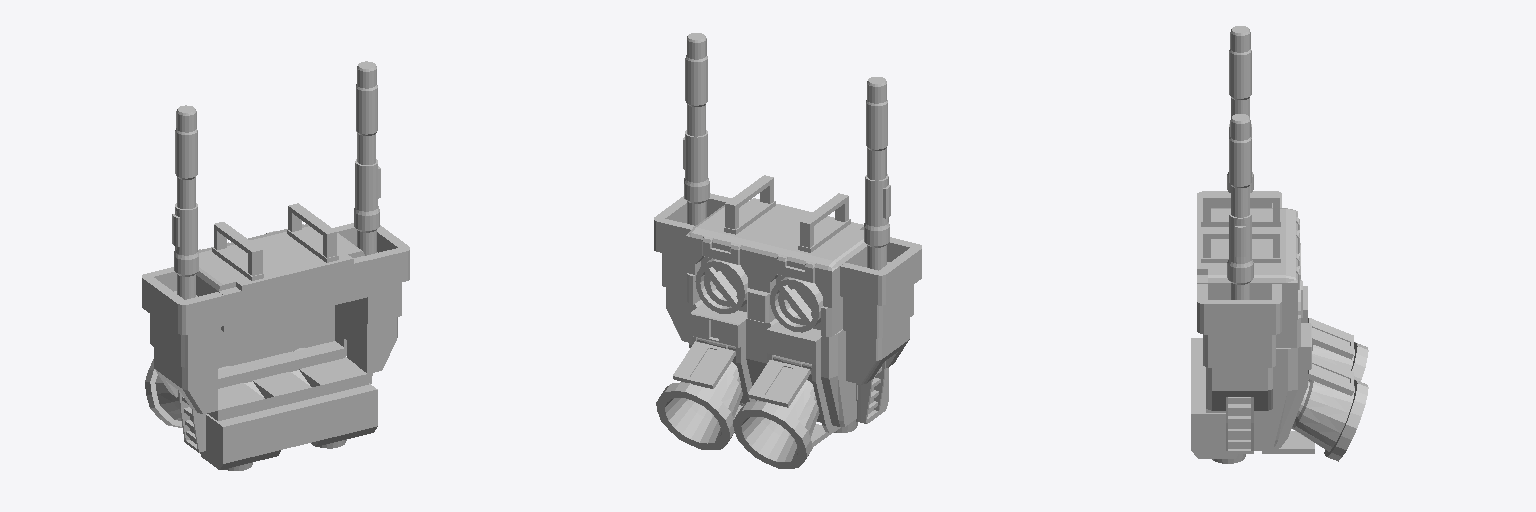
File: back.obj
3 renders of one model, left to right at view 1: azimuth 30°, elevation 25°; view 2: azimuth 150°, elevation 25°; view 3: azimuth 270°, elevation 25°, orthographic.
Bounding box in the file's own units: 5.78 × 8.69 × 3.82.